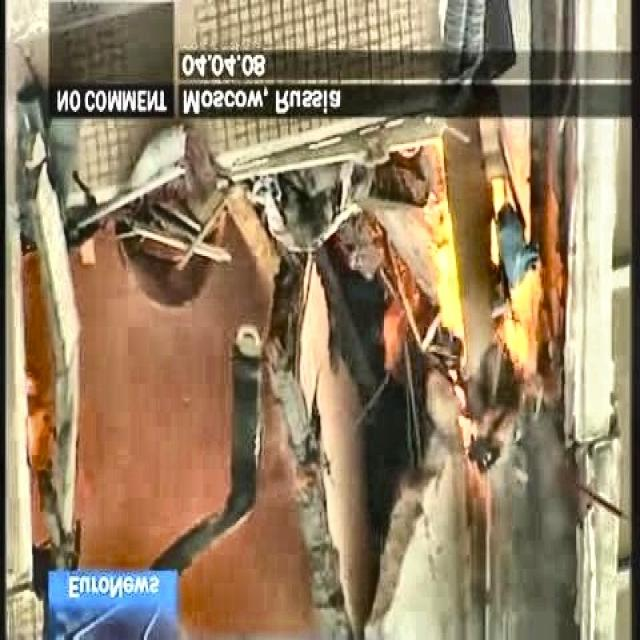fire: (425, 194, 552, 398)
